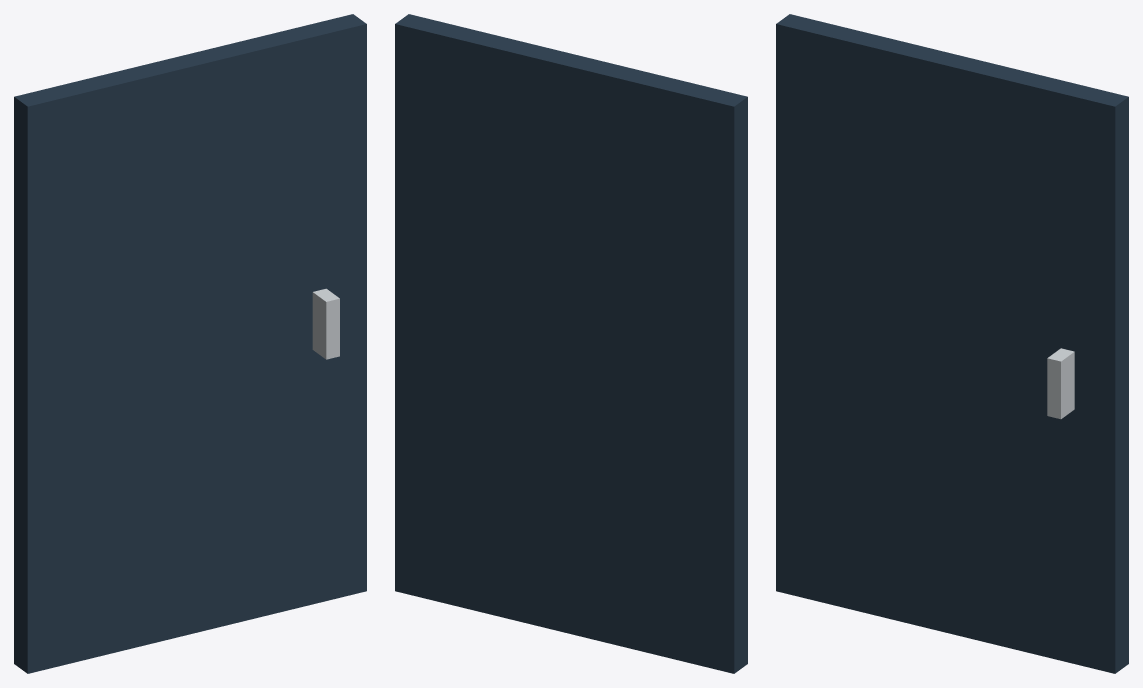
Rendered from porta_sala.glb.
3 renders of one model, left to right at view 1: azimuth 30°, elevation 25°; view 2: azimuth 150°, elevation 25°; view 3: azimuth 330°, elevation 25°, orthographic.
Visible parts, largest first — view 1: _MeshInstance3D_602, _MeshInstance3D_603; view 2: _MeshInstance3D_602; view 3: _MeshInstance3D_602, _MeshInstance3D_603.
Boxes of the visible parts, x1,y1,x2,y2 form: _MeshInstance3D_602: [14, 14, 366, 673]; _MeshInstance3D_603: [312, 288, 339, 359]; _MeshInstance3D_602: [395, 14, 747, 673]; _MeshInstance3D_602: [776, 14, 1128, 673]; _MeshInstance3D_603: [1047, 348, 1074, 419].
Size of the model in its own units: 1.72 by 2.75 by 0.24.
